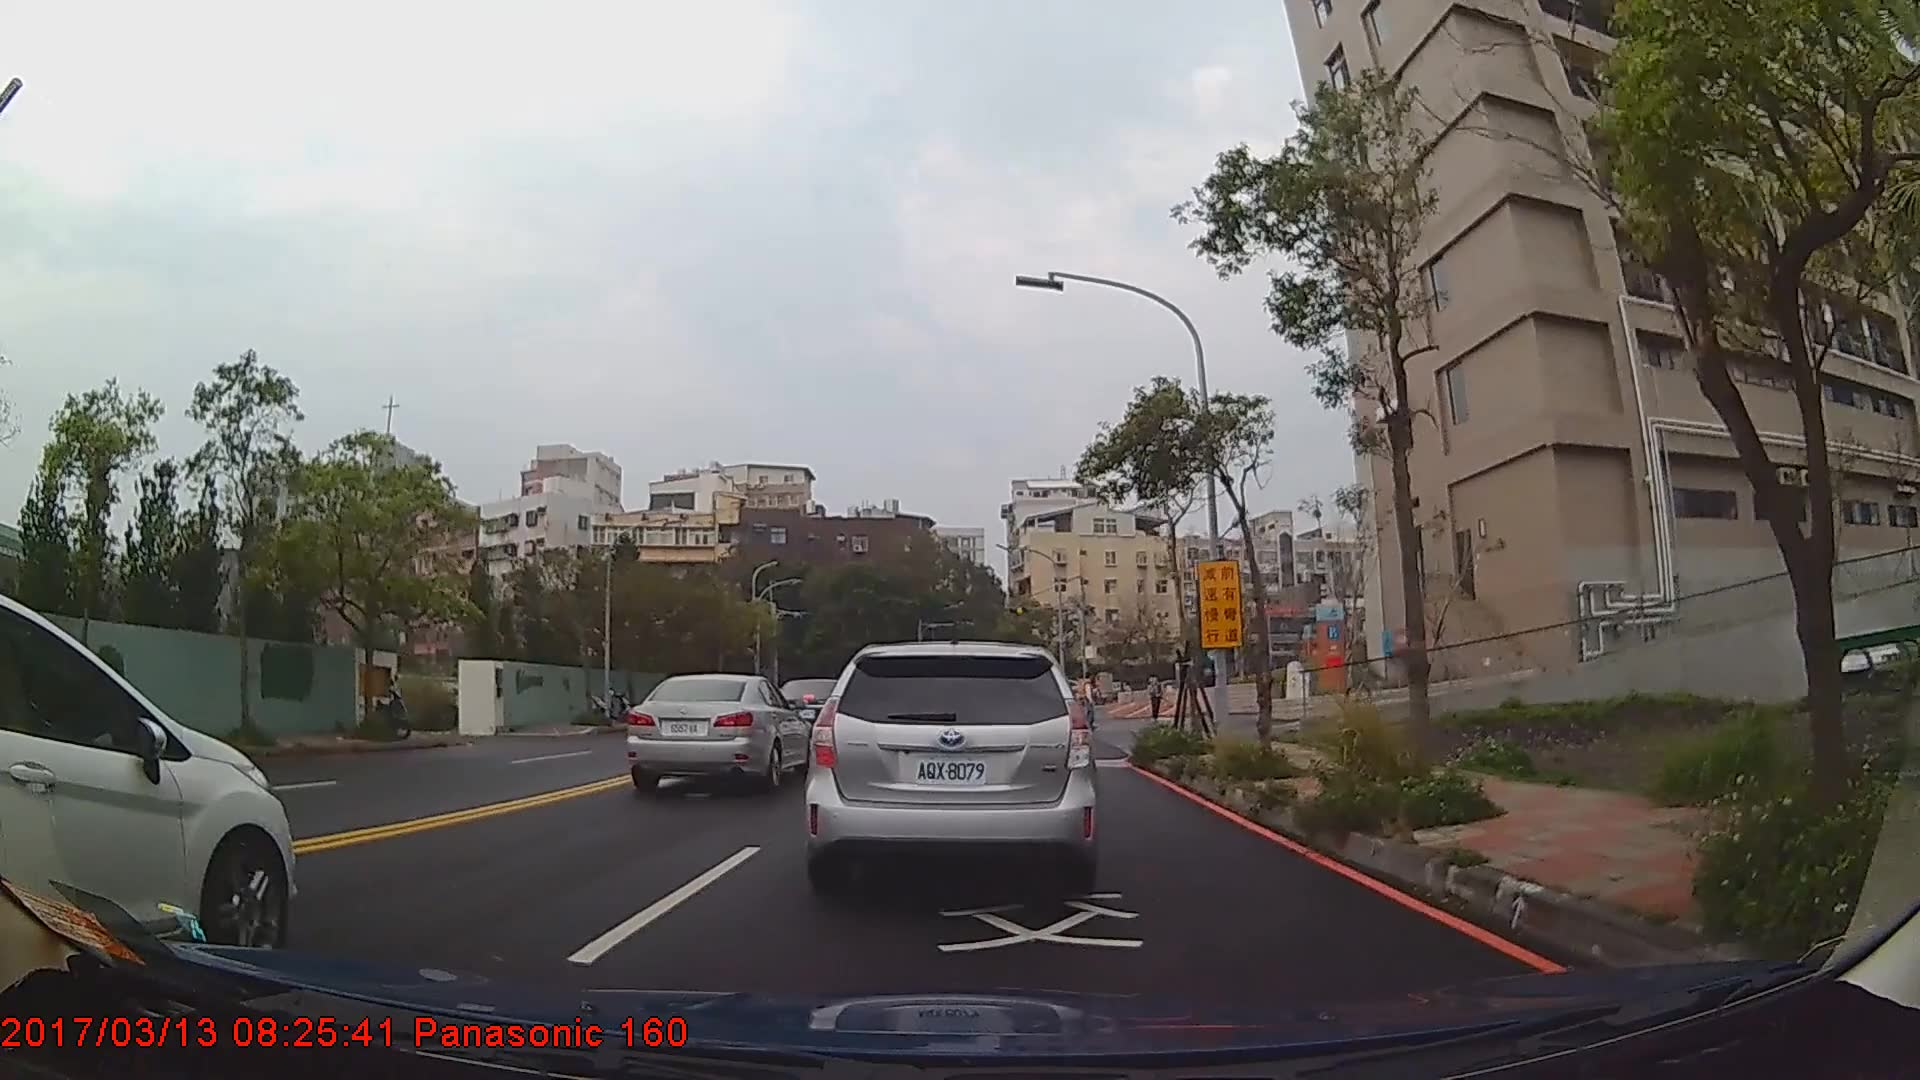pedestrian: (1080, 669, 1102, 733)
vehicle: (0, 593, 295, 964), (804, 637, 1102, 900), (624, 673, 813, 790)
